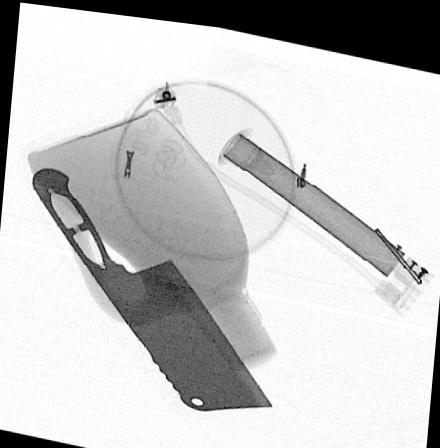Knife: (27, 164, 273, 408)
